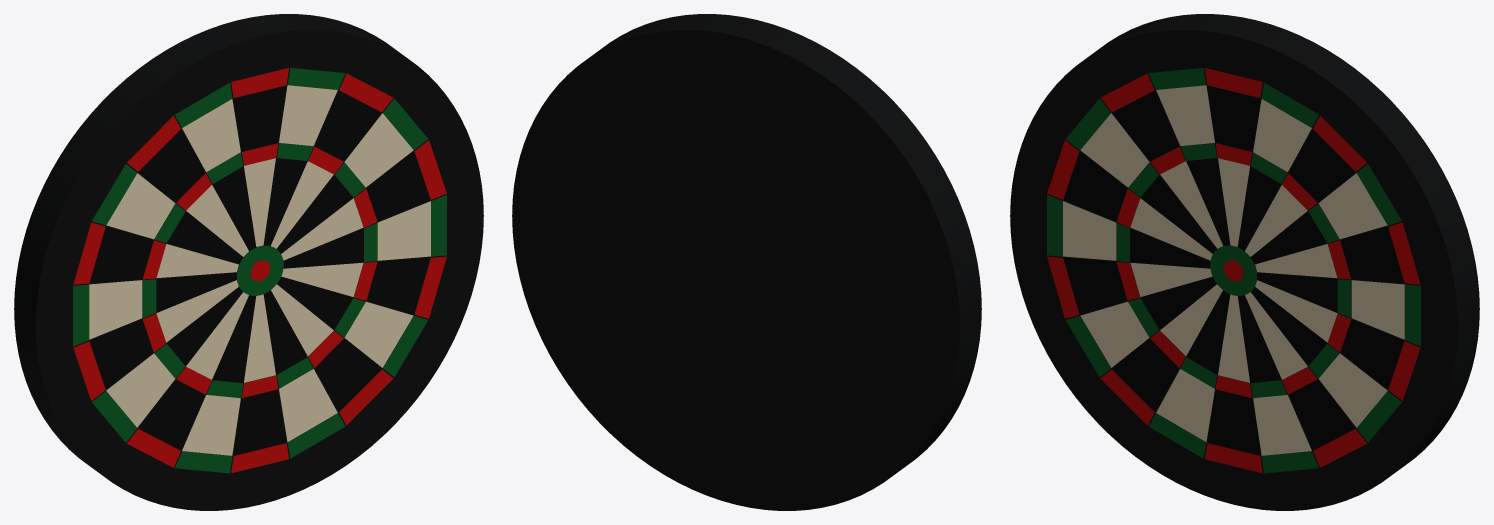
Rendered from DartBoard_Base.obj.
3 views of the same model, side by side, from view 1: azimuth 30°, elevation 25°; view 2: azimuth 150°, elevation 25°; view 3: azimuth 330°, elevation 25° (orthographic).
Visible parts, largest first — view 1: DartBoard_Base; view 2: DartBoard_Base; view 3: DartBoard_Base.
Boxes of the visible parts, x1,y1,x2,y2 form: DartBoard_Base: (14,14,483,510); DartBoard_Base: (512,14,981,510); DartBoard_Base: (1010,14,1479,510).
Size of the model in its own units: 7.1 by 7.1 by 0.612.
